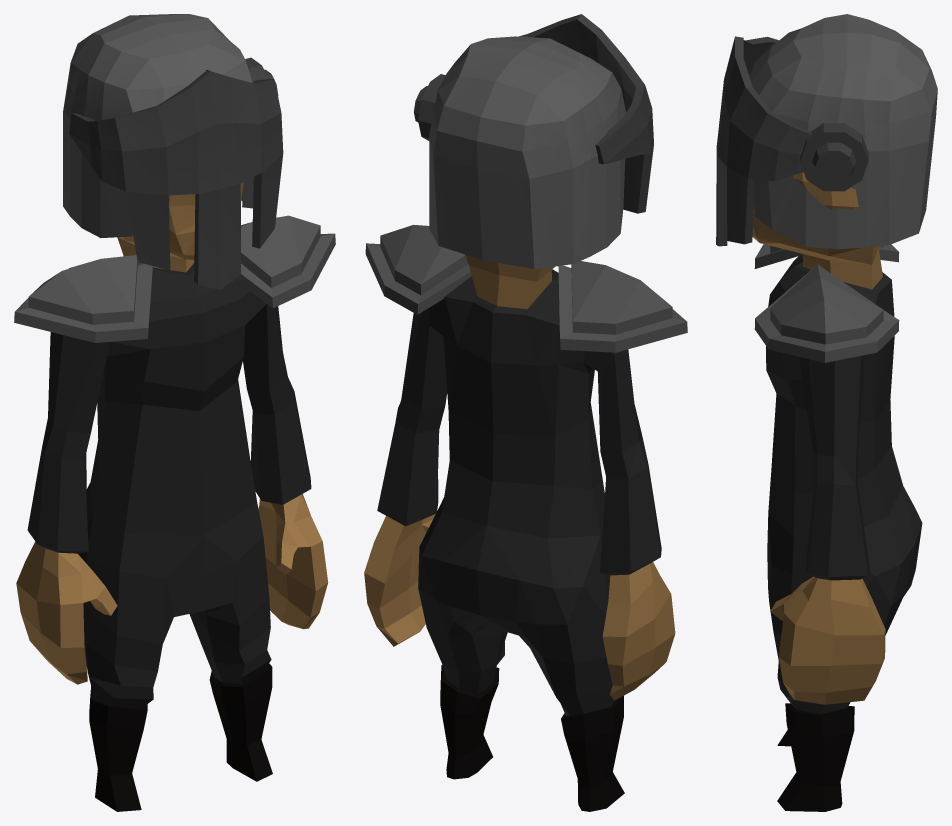
Rendered from speler.glb.
3 views of the same model, side by side, from view 1: azimuth 30°, elevation 25°; view 2: azimuth 150°, elevation 25°; view 3: azimuth 270°, elevation 25° (orthographic).
Parts seen in each view (by area): view 1: Knight__ncl1_29.002, Helmet__ncl1_29.003, ShoulderPads__ncl1_29.000; view 2: Knight__ncl1_29.002, Helmet__ncl1_29.003, ShoulderPads__ncl1_29.000; view 3: Knight__ncl1_29.002, Helmet__ncl1_29.003, ShoulderPads__ncl1_29.000.
Boxes of the visible parts, bbox=[...] form: Knight__ncl1_29.002: bbox=[16, 182, 328, 811]; Helmet__ncl1_29.003: bbox=[63, 14, 283, 289]; ShoulderPads__ncl1_29.000: bbox=[14, 215, 335, 342]; Knight__ncl1_29.002: bbox=[364, 254, 675, 811]; Helmet__ncl1_29.003: bbox=[414, 14, 653, 269]; ShoulderPads__ncl1_29.000: bbox=[365, 224, 687, 352]; Knight__ncl1_29.002: bbox=[752, 172, 922, 811]; Helmet__ncl1_29.003: bbox=[716, 14, 937, 249]; ShoulderPads__ncl1_29.000: bbox=[754, 244, 899, 362].
Bounding box in the file's own units: 2.61 × 5.79 × 1.58.
